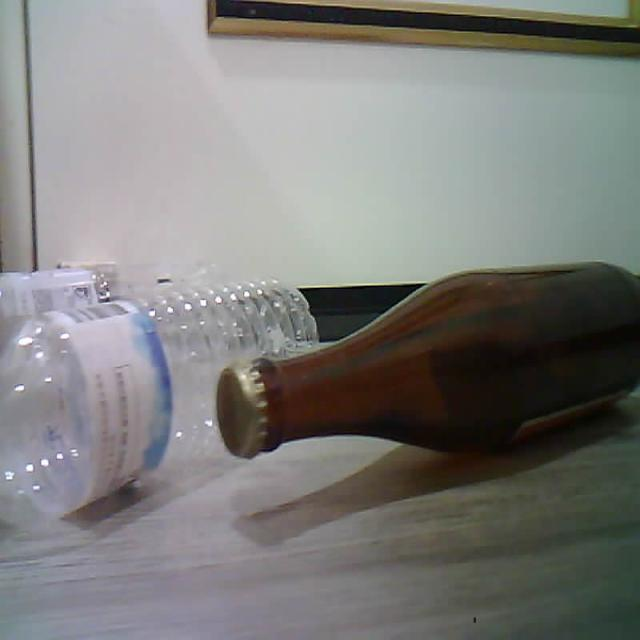bottle: (216, 261, 639, 459), (0, 281, 317, 515)
